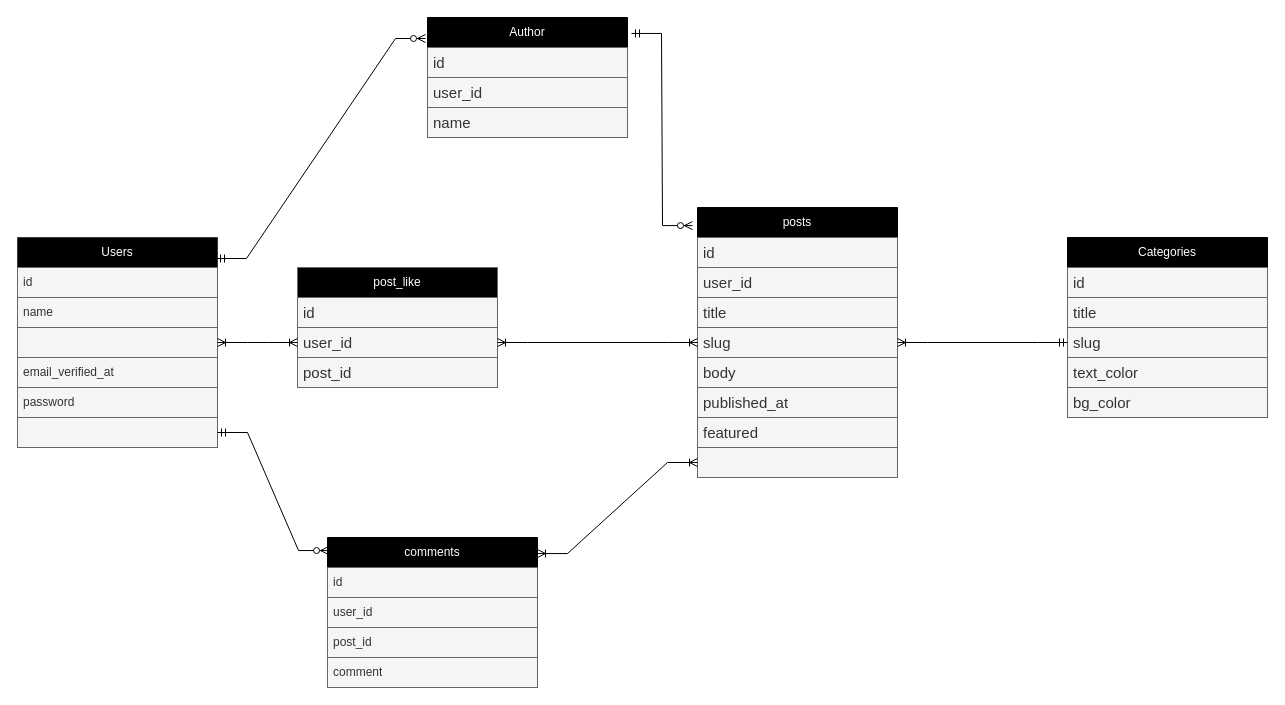
Some shapes in this 1285 by 705 pixel diagram are drawn without their labels. The shapes that lost their labels are listed below. From the top down, each one's centre as x and y in pixels, then its label:
the point at 117,342: email
the point at 117,432: role
the point at 797,462: deleted_at
